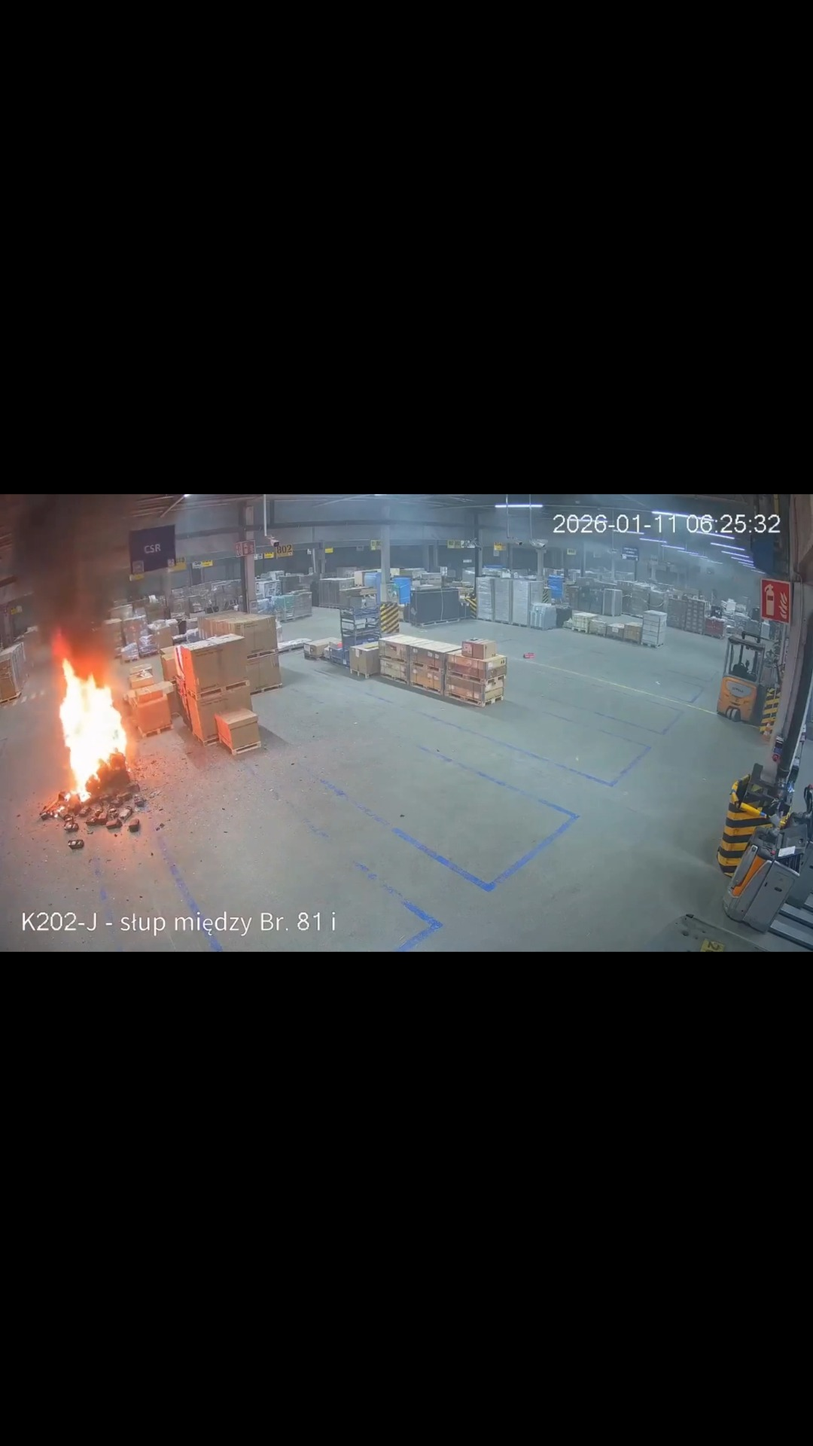fire: (47, 628, 134, 810)
smoke: (0, 495, 154, 668)
